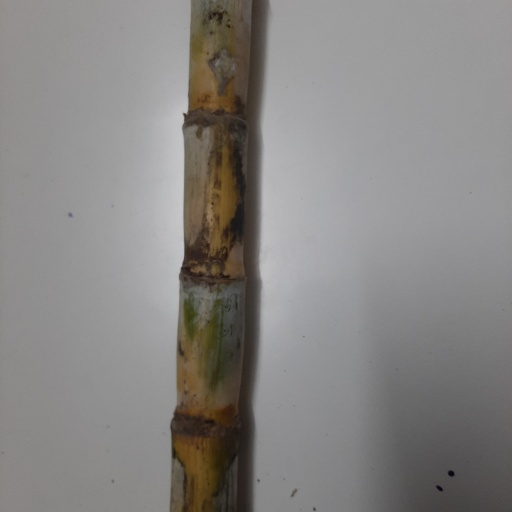Bud: (208, 259, 225, 277)
